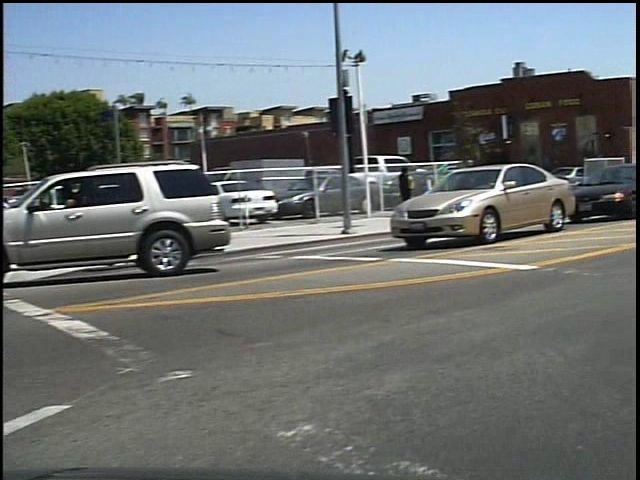person: (401, 168, 427, 227)
